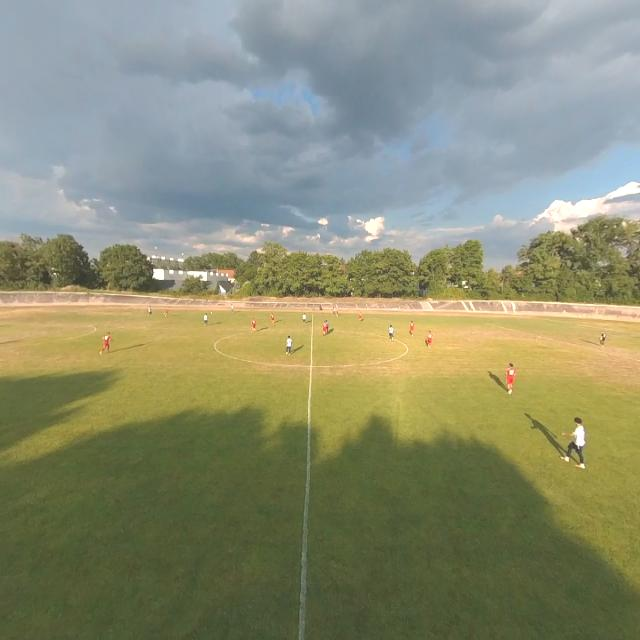ball: (210, 311, 213, 315)
